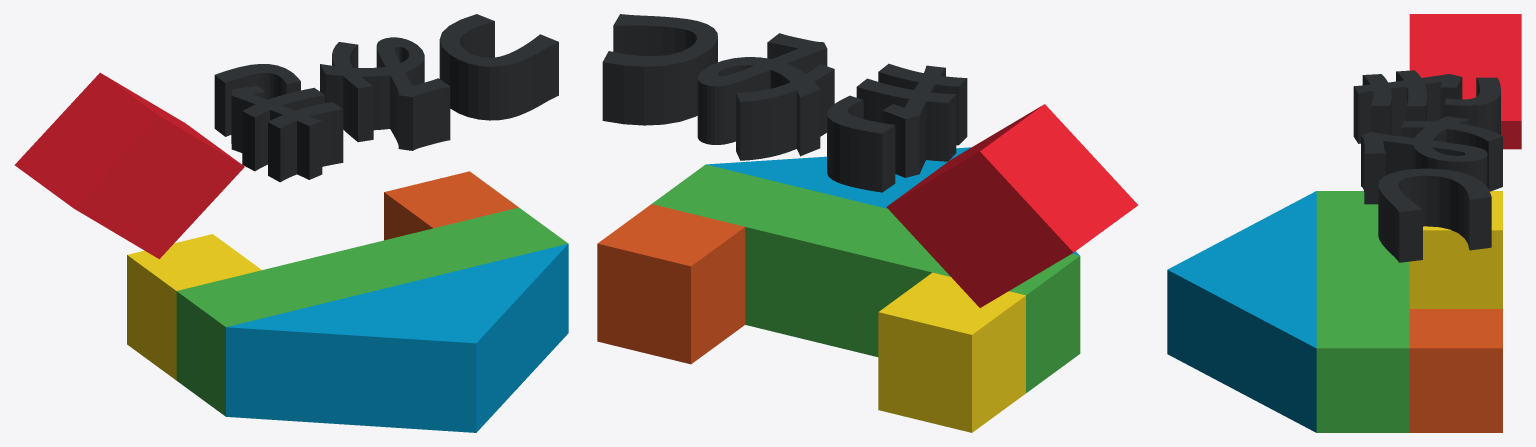
The model's file is tinker.obj.
The picture shows the model from 3 angles, left to right: view 1: azimuth 30°, elevation 25°; view 2: azimuth 150°, elevation 25°; view 3: azimuth 270°, elevation 25°; orthographic projection. The views are drawn at different scales.
Visible parts, largest first — view 1: group_0_40919, group_0_2829873, group_0_15277357, group_0_4634441, group_0_16768282, group_0_14900002; view 2: group_0_2829873, group_0_4634441, group_0_15277357, group_0_14900002, group_0_16768282, group_0_40919; view 3: group_0_40919, group_0_2829873, group_0_4634441, group_0_14900002, group_0_15277357, group_0_16768282.
Part boxes in pixels (x1,y1,x2,y2): group_0_40919: [226, 243, 568, 432]; group_0_2829873: [214, 14, 558, 182]; group_0_15277357: [14, 72, 244, 259]; group_0_4634441: [176, 207, 567, 416]; group_0_16768282: [127, 234, 261, 380]; group_0_14900002: [384, 171, 518, 240]; group_0_2829873: [602, 14, 967, 192]; group_0_4634441: [652, 164, 1080, 392]; group_0_15277357: [886, 104, 1137, 307]; group_0_14900002: [597, 204, 745, 364]; group_0_16768282: [878, 272, 1025, 432]; group_0_40919: [706, 147, 1079, 255]; group_0_40919: [1167, 191, 1316, 432]; group_0_2829873: [1353, 70, 1502, 262]; group_0_4634441: [1316, 191, 1409, 432]; group_0_14900002: [1409, 309, 1502, 432]; group_0_15277357: [1409, 14, 1521, 149]; group_0_16768282: [1409, 191, 1502, 308].
Bounding box in the file's own units: 28 × 15 × 19.
